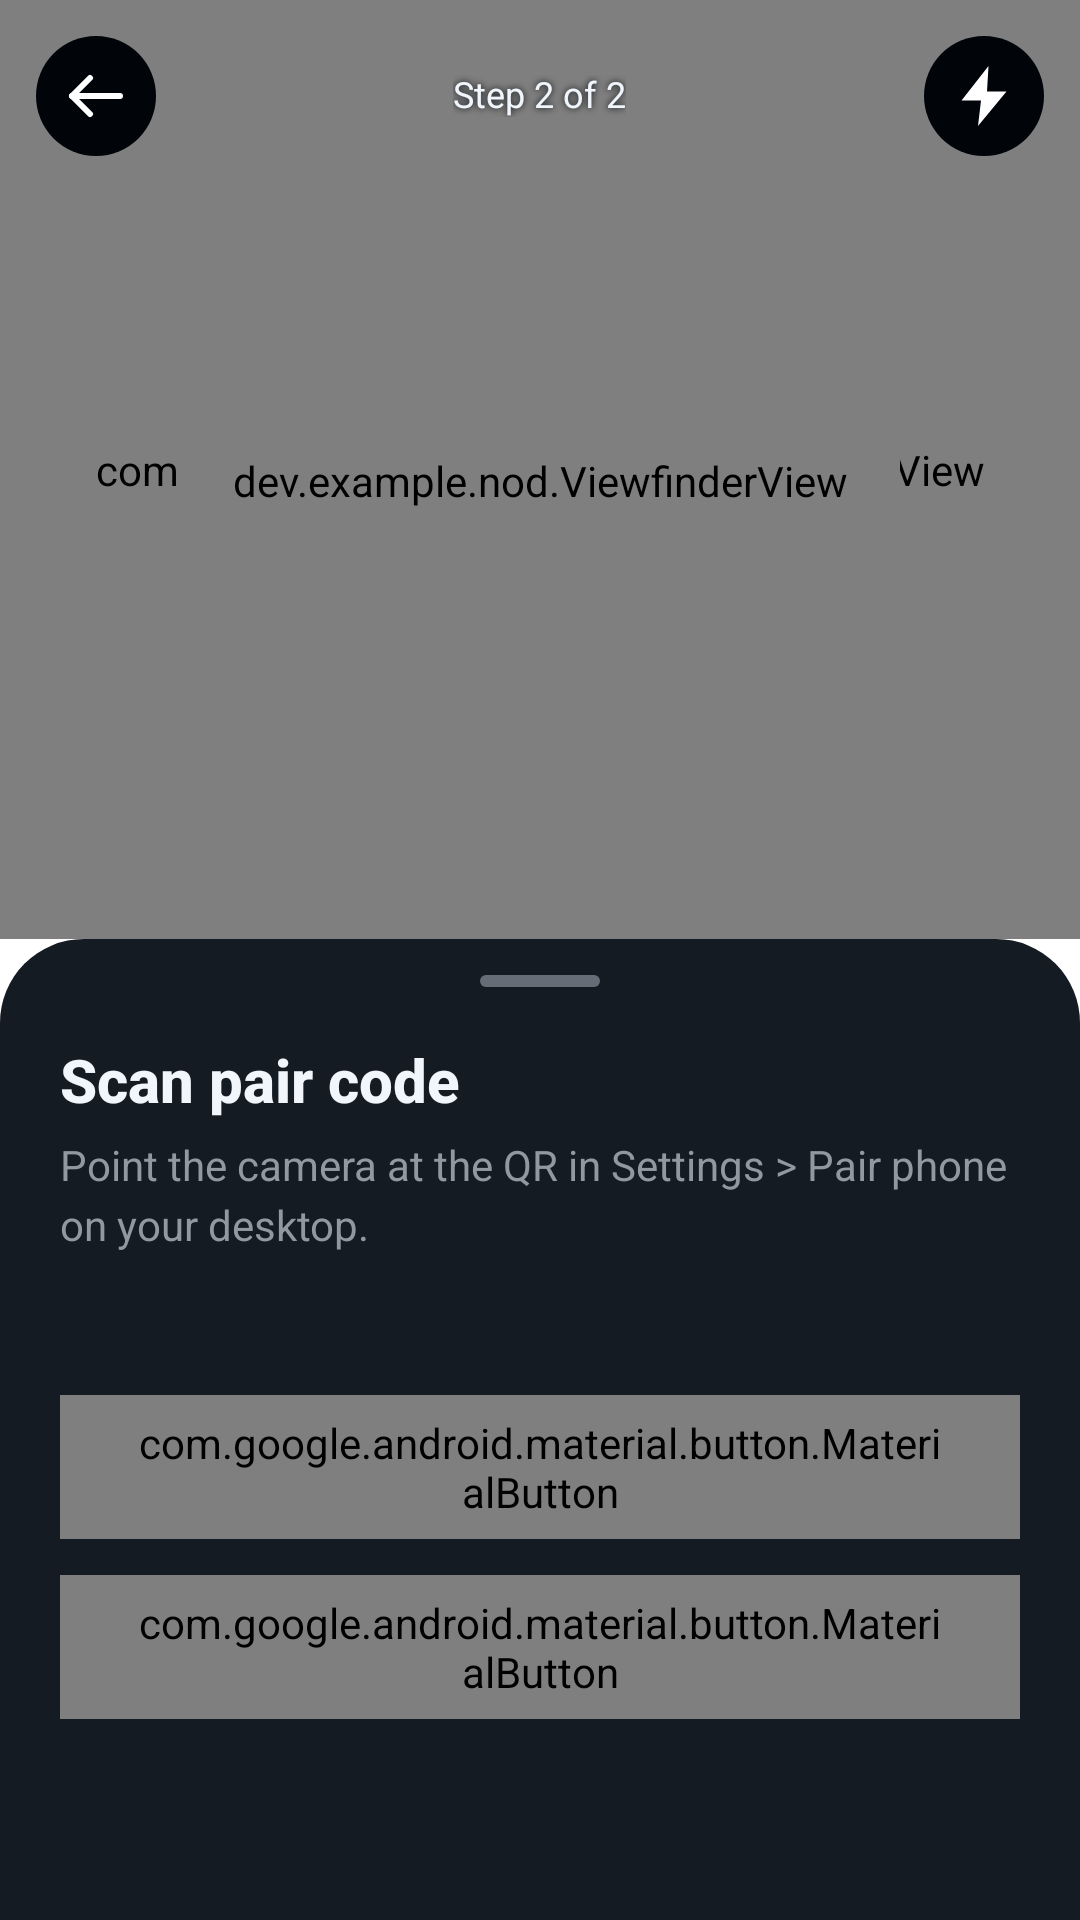

Screen size 1080px x 1920px. Icon name, then its box in pixels as (x1, y1, x2, y2):
Back: (36, 36, 156, 156)
Flash: (924, 36, 1044, 156)
